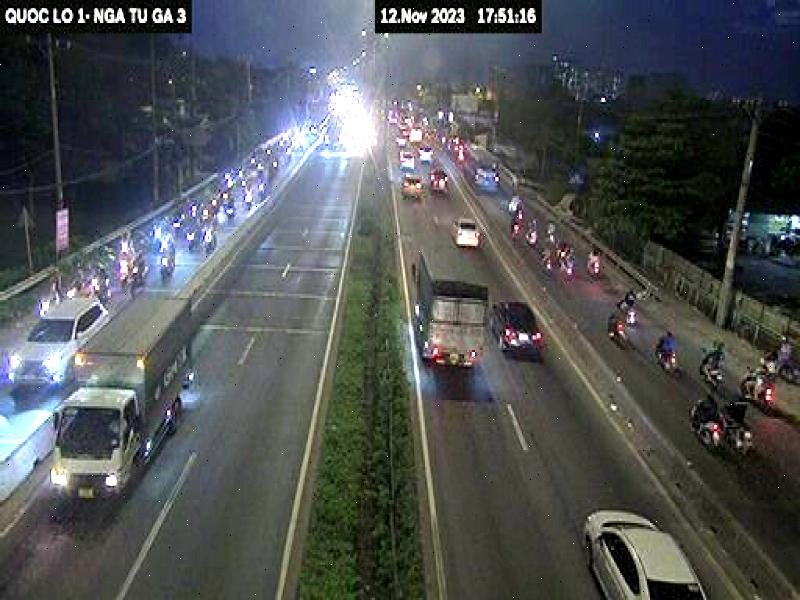truck: (50, 287, 195, 511)
